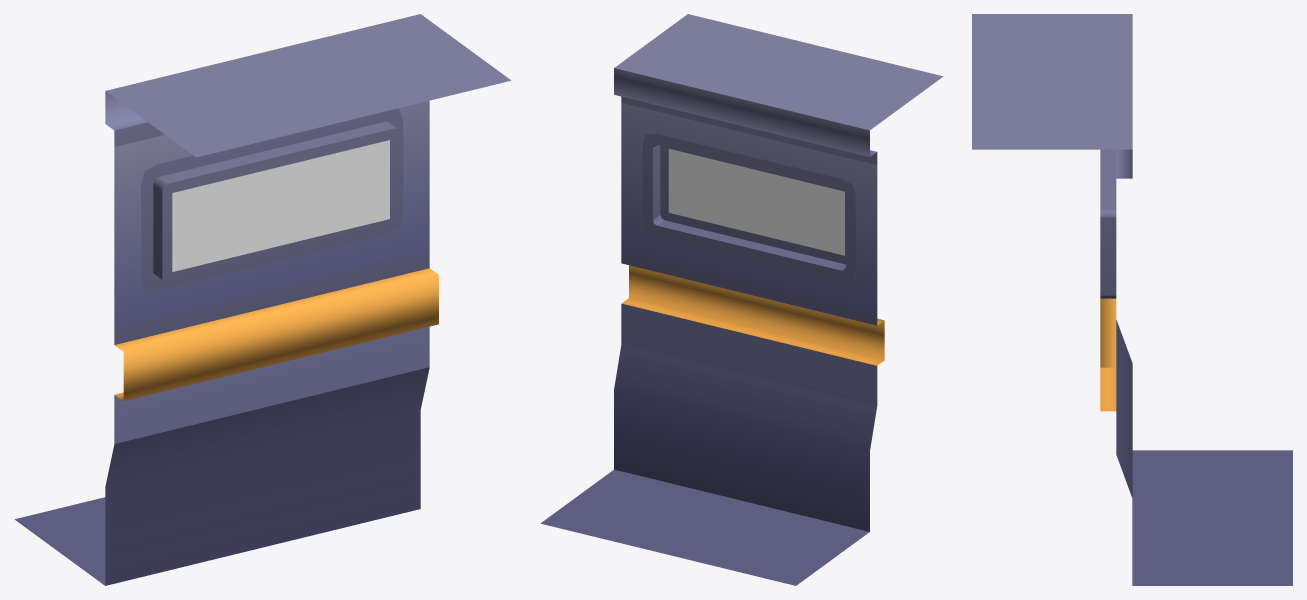
File: structure-window-wide.glb
The picture shows the model from 3 angles, left to right: view 1: azimuth 30°, elevation 25°; view 2: azimuth 150°, elevation 25°; view 3: azimuth 270°, elevation 25°; orthographic projection. The views are drawn at different scales.
Visible parts, largest first — view 1: structure-window-wide; view 2: structure-window-wide; view 3: structure-window-wide.
Boxes of the visible parts, x1,y1,x2,y2 form: structure-window-wide: (14, 14, 511, 585); structure-window-wide: (540, 14, 943, 585); structure-window-wide: (972, 14, 1292, 585).
Bounding box in the file's own units: 2 × 3 × 2.
